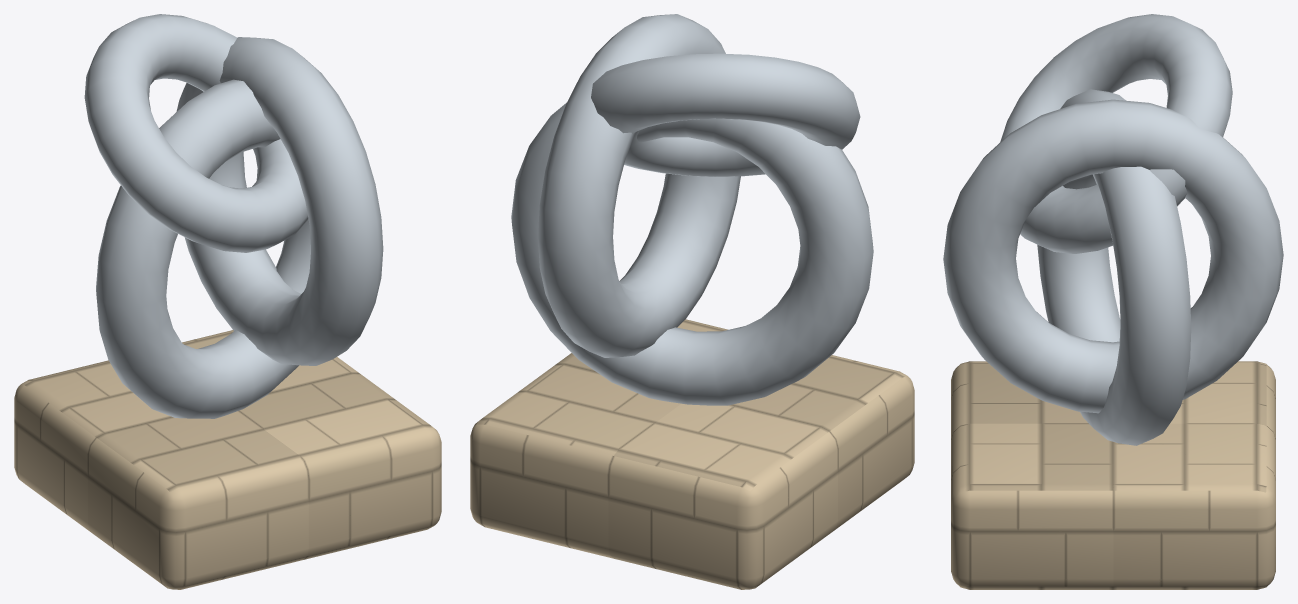
File: sculpture.gltf
3 renders of one model, left to right at view 1: azimuth 30°, elevation 25°; view 2: azimuth 150°, elevation 25°; view 3: azimuth 270°, elevation 25°, orthographic. The views are drawn at different scales.
Parts seen in each view (by area): view 1: sculpture_mesh; view 2: sculpture_mesh; view 3: sculpture_mesh.
Part boxes in pixels (bbox=[...]): sculpture_mesh: bbox=[14, 14, 441, 589]; sculpture_mesh: bbox=[470, 14, 914, 589]; sculpture_mesh: bbox=[943, 14, 1283, 589].
Size of what is drawn, in the model's own units: 3.61 by 5.45 by 3.56.
Materials: 2 (1 with a texture image).
